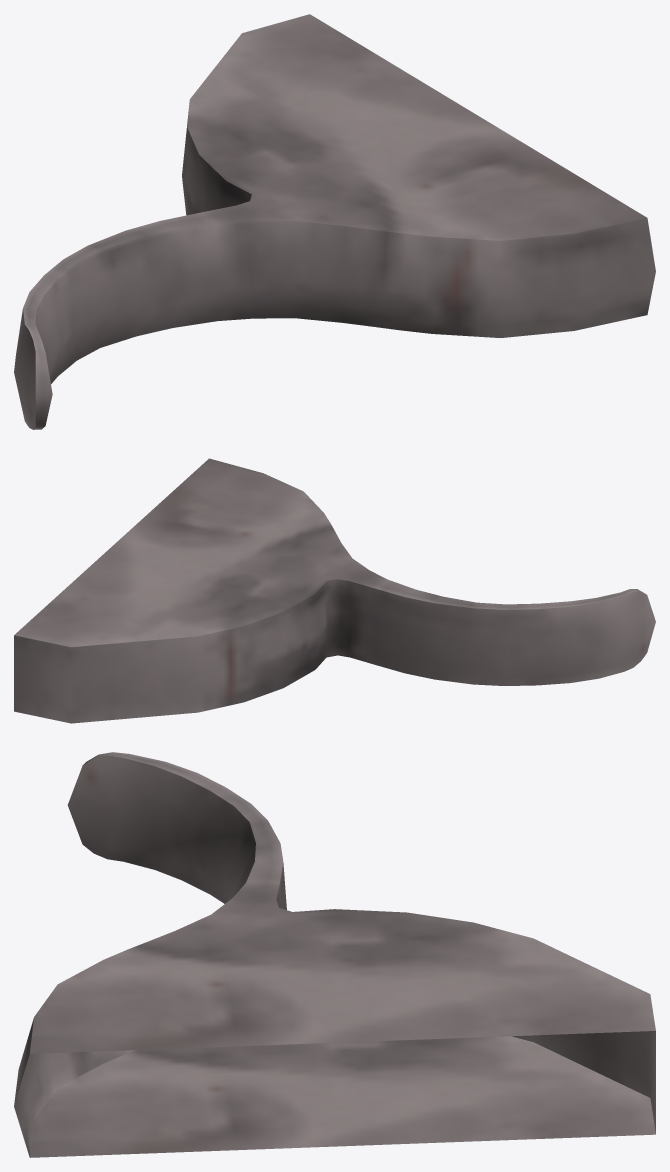
File: SM_Brimstone_01c.fbx
3 views of the same model, one above another, from view 1: azimuth 30°, elevation 25°; view 2: azimuth 150°, elevation 25°; view 3: azimuth 270°, elevation 25° (orthographic). The views are drawn at different scales.
Visible parts, largest first — view 1: SM_Brimstone_01c_LOD0; view 2: SM_Brimstone_01c_LOD0; view 3: SM_Brimstone_01c_LOD0.
Boxes of the visible parts, box(x1,y1,x2,y2) form: SM_Brimstone_01c_LOD0: box(14, 14, 655, 429); SM_Brimstone_01c_LOD0: box(14, 458, 655, 723); SM_Brimstone_01c_LOD0: box(14, 752, 655, 1157).
Bounding box in the file's own units: 4.2 × 3.7 × 0.6593.
